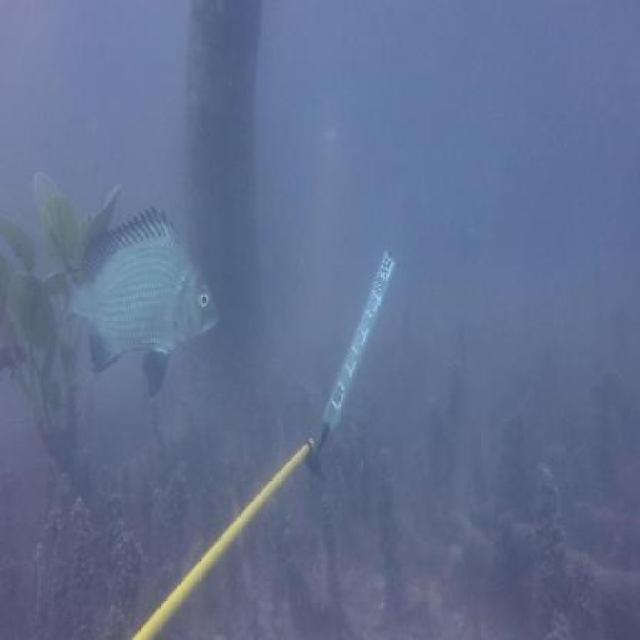acanthopagrus_palmaris: (46, 203, 223, 406)
